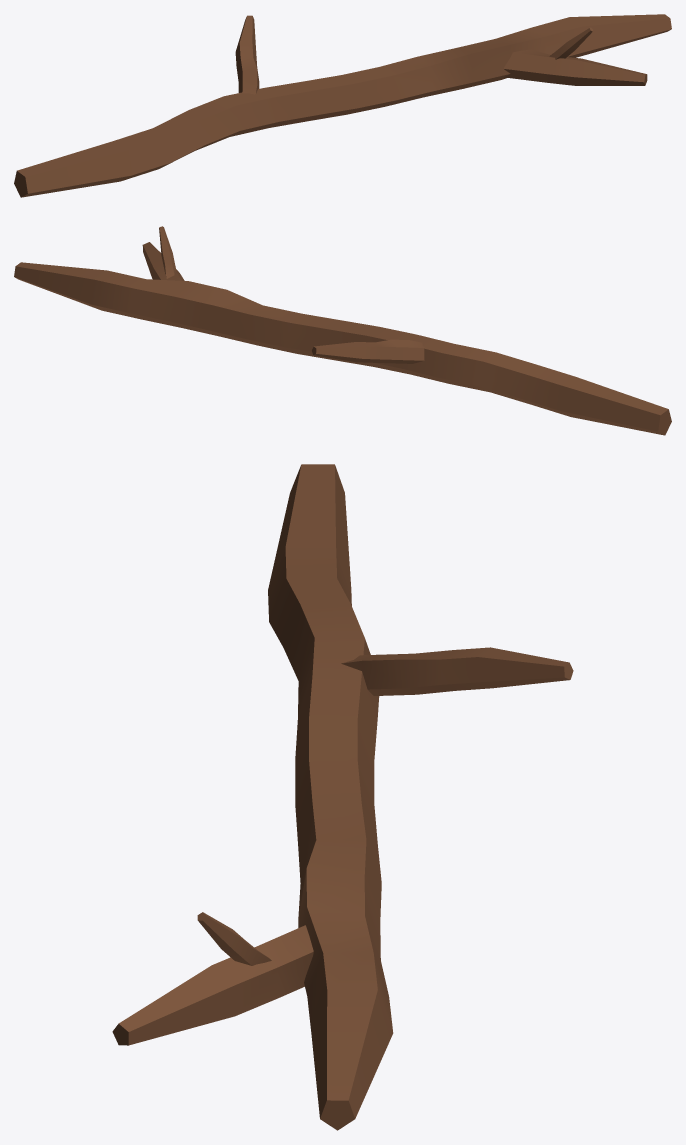
The model's file is Stick.fbx.
3 renders of one model, top to bottom at view 1: azimuth 30°, elevation 25°; view 2: azimuth 150°, elevation 25°; view 3: azimuth 270°, elevation 25°, orthographic. The views are drawn at different scales.
Visible parts, largest first — view 1: Stick; view 2: Stick; view 3: Stick.
Part boxes in pixels (x1,y1,x2,y2): Stick: (14,14,671,197); Stick: (14,226,671,435); Stick: (112,464,573,1130).
Bounding box in the file's own units: 6.3 × 0.6543 × 1.96.
1 material, 1 textured.
